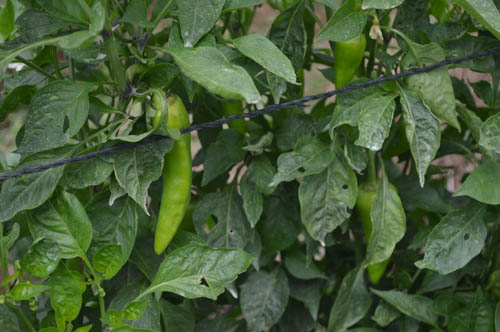ChiliPepper: (149, 94, 192, 254), (357, 184, 402, 284), (333, 35, 365, 96)
